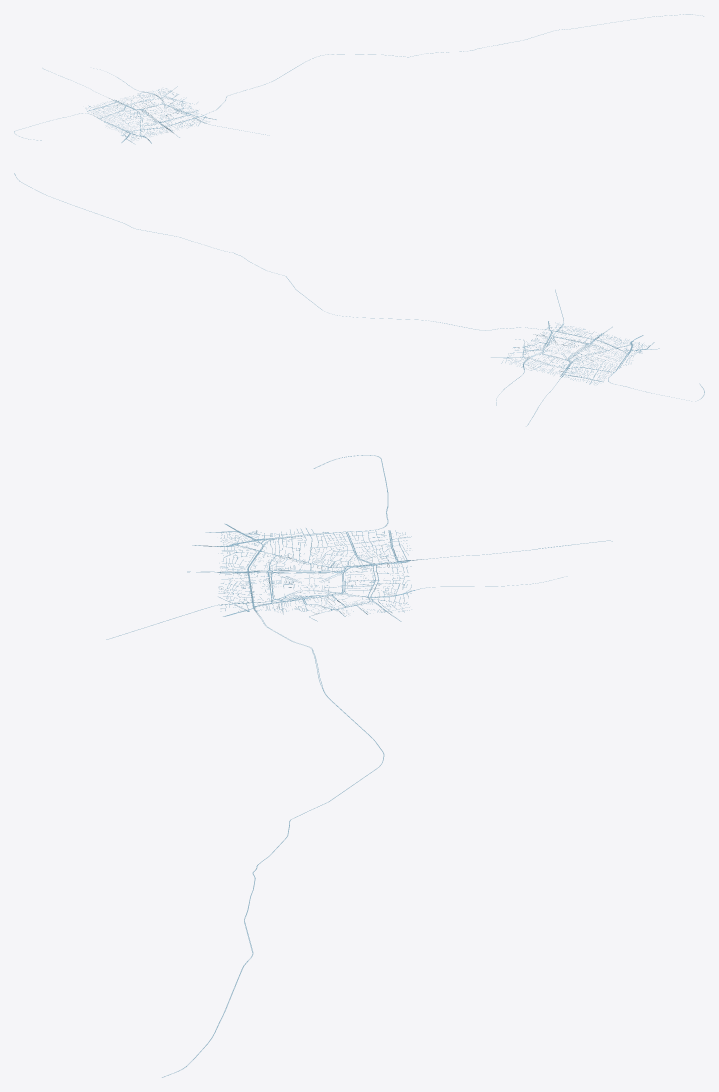
The model's file is roads.glb.
The picture shows the model from 3 angles, top to bottom: view 1: azimuth 30°, elevation 25°; view 2: azimuth 150°, elevation 25°; view 3: azimuth 270°, elevation 25°; orthographic projection. The views are drawn at different scales.
Parts seen in each view (by area): view 1: roads; view 2: roads; view 3: roads.
Boxes of the visible parts, x1=… form: roads: x1=14, y1=14, x2=703, y2=144; roads: x1=14, y1=173, x2=704, y2=426; roads: x1=106, y1=455, x2=612, y2=1077.
Size of the model in its own units: 20421 by 24.93 by 7023.
